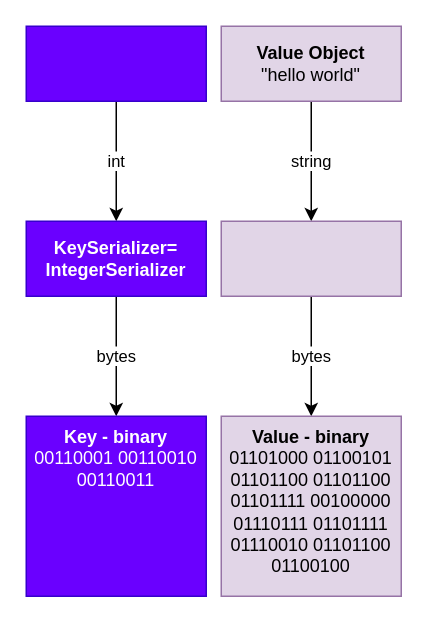
This 428x623 diagram has some shape labels left out. The shapes that lost their labels are listed below. From the top down, each one's centre as x and y in pixels, then its label:
the point at 115,63: Key Object 123
the point at 310,258: ValueSerializer= StringSerializer
